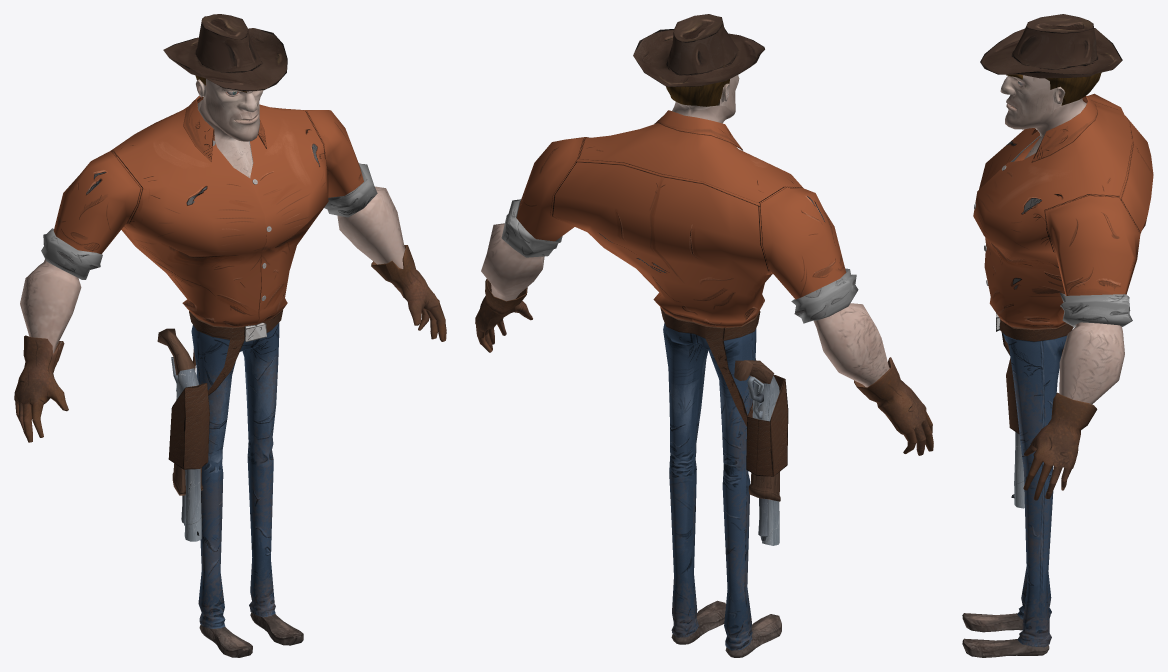
The model's file is arnold_finished.glb.
3 renders of one model, left to right at view 1: azimuth 30°, elevation 25°; view 2: azimuth 150°, elevation 25°; view 3: azimuth 270°, elevation 25°, orthographic. The views are drawn at different scales.
Visible parts, largest first — view 1: Arnold_shirt, Arnold_pants, Arnlod_hat, Arnold_head, Arnold_r_arm, Arnold_r_glove, Arnold_l_arm, Arnold_holster, Arnold_l_glove, Arnold_shotgun_stock, Arnlod_shotgun_upperbarrel, Arnold_r_shoe (+1 smaller); view 2: Arnold_shirt, Arnold_pants, Arnlod_hat, Arnold_r_arm, Arnold_r_glove, Arnold_holster, Arnold_l_arm, Arnold_l_glove, Arnold_shotgun_stock, Arnold_head, Arnold_hair, Arnold_r_shoe (+2 smaller); view 3: Arnold_shirt, Arnold_pants, Arnlod_hat, Arnold_l_arm, Arnold_l_glove, Arnold_head, Arnold_l_shoe, Arnold_r_shoe, Arnold_hair, Arnlod_shotgun_upperbarrel, Arnold_holster.
Part boxes in pixels (x1,y1,x2,y2): Arnold_shirt: (41,95,377,327); Arnold_pants: (189,310,282,628); Arnlod_hat: (163,14,287,91); Arnold_head: (196,79,263,177); Arnold_r_arm: (20,259,81,353); Arnold_r_glove: (14,335,68,442); Arnold_l_arm: (337,186,405,268); Arnold_holster: (168,383,209,469); Arnold_l_glove: (371,245,446,341); Arnold_shotgun_stock: (157,328,198,399); Arnlod_shotgun_upperbarrel: (184,468,201,541); Arnold_r_shoe: (199,624,252,657); Arnold_shirt: (501,110,858,327); Arnold_pants: (660,307,760,650); Arnlod_hat: (633,14,764,86); Arnold_r_arm: (813,303,889,387); Arnold_r_glove: (854,357,933,455); Arnold_holster: (746,375,788,476); Arnold_l_arm: (481,223,544,301); Arnold_l_glove: (475,279,532,352); Arnold_shotgun_stock: (734,360,779,421); Arnold_head: (672,75,739,123); Arnold_hair: (666,65,729,106); Arnold_r_shoe: (725,614,781,657); Arnold_shirt: (973,93,1153,328); Arnold_pants: (996,313,1073,647); Arnlod_hat: (980,14,1122,78); Arnold_l_arm: (1059,322,1124,404); Arnold_l_glove: (1023,392,1097,500); Arnold_head: (1000,75,1086,159); Arnold_l_shoe: (962,638,1049,657); Arnold_r_shoe: (962,613,1022,632); Arnold_hair: (1045,68,1101,105); Arnlod_shotgun_upperbarrel: (1011,432,1024,508); Arnold_holster: (1006,358,1019,434).
Size of the model in its own units: 1.37 by 1.85 by 0.5199.
Materials: 5 (5 with a texture image).
